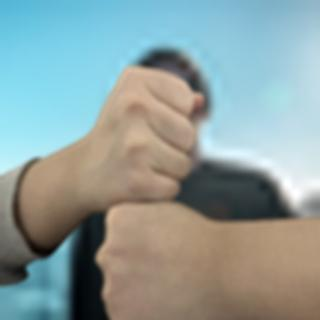CAREFUL: (22, 65, 307, 320)
